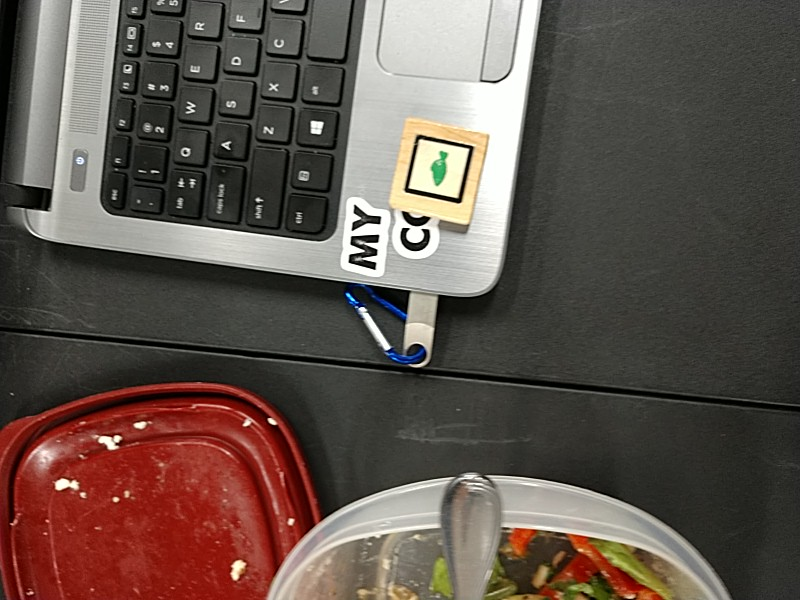Fish Tile: (404, 133, 474, 203)
